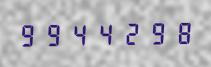eight: (167, 18, 191, 45)
four: (67, 20, 91, 47), (92, 20, 116, 46)
nine: (17, 21, 41, 48), (42, 21, 66, 47), (142, 19, 166, 45)
two: (117, 19, 141, 46)
